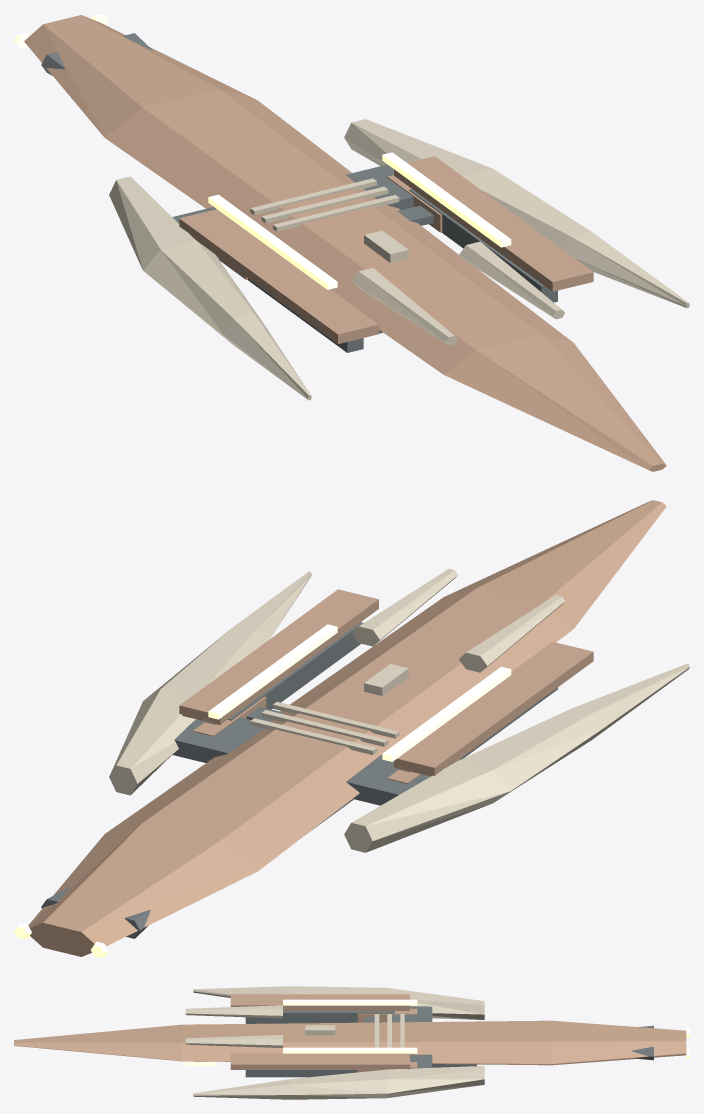
3 views of the same model, one above another, from view 1: azimuth 30°, elevation 25°; view 2: azimuth 150°, elevation 25°; view 3: azimuth 270°, elevation 25° (orthographic). The views are drawn at different scales.
Bounding box in the file's own units: 7.41 × 1.49 × 20.09.
